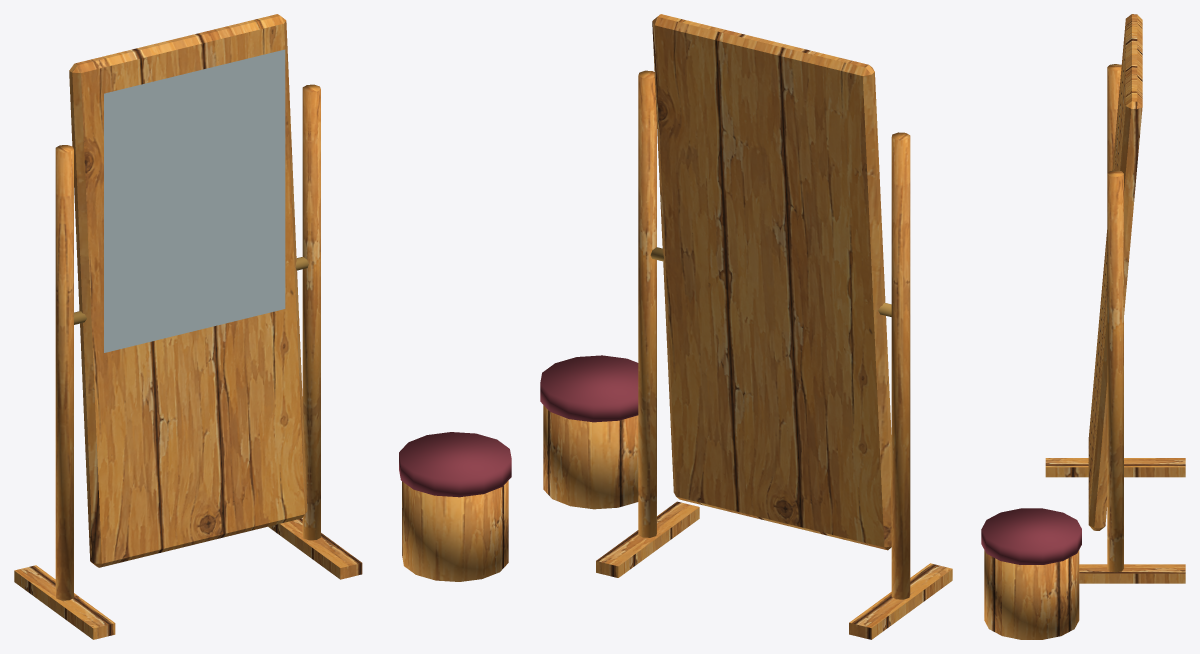
3 views of the same model, side by side, from view 1: azimuth 30°, elevation 25°; view 2: azimuth 150°, elevation 25°; view 3: azimuth 270°, elevation 25° (orthographic). The views are drawn at different scales.
Parts seen in each view (by area): view 1: shop_oak, shop_mirror, shop_cloth_0; view 2: shop_oak, shop_cloth_0; view 3: shop_oak, shop_cloth_0.
Boxes of the visible parts, x1,y1,x2,y2 form: shop_oak: (14, 14, 508, 639); shop_mirror: (104, 49, 285, 352); shop_cloth_0: (399, 432, 511, 497); shop_oak: (543, 14, 952, 639); shop_cloth_0: (540, 355, 638, 422); shop_oak: (984, 14, 1185, 639); shop_cloth_0: (981, 508, 1081, 564).
Bounding box in the file's own units: 1.47 × 1.85 × 0.73.
4 materials, 1 textured.
